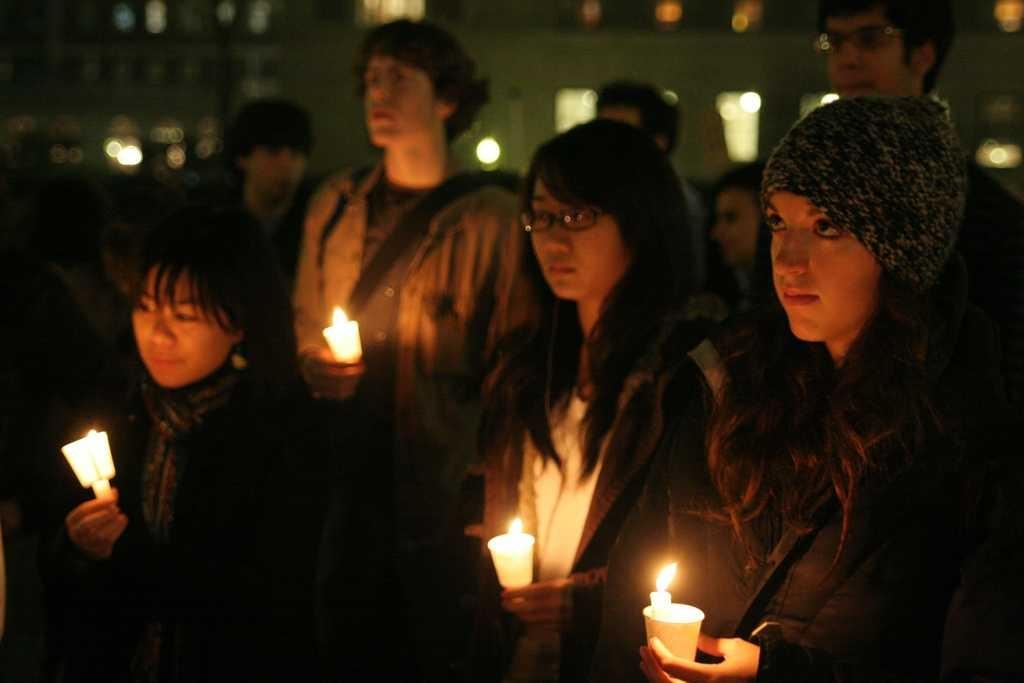fire: (63, 440, 132, 505), (493, 521, 554, 577), (636, 560, 700, 605), (326, 310, 372, 369)
